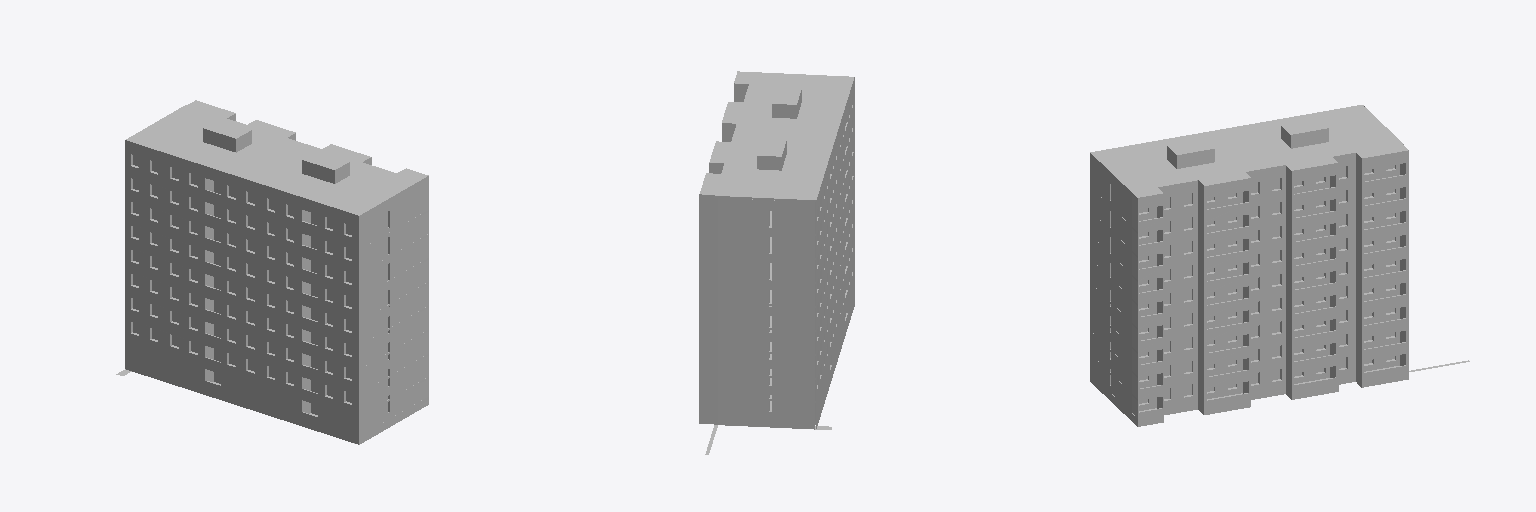
Rendered from Orangebuilding.obj.
3 renders of one model, left to right at view 1: azimuth 30°, elevation 25°; view 2: azimuth 150°, elevation 25°; view 3: azimuth 270°, elevation 25°, orthographic.
Visible parts, largest first — view 1: Mesh13 Component_4_1 Model, Mesh9 Group5 Component_4_1 Model, Mesh3 Group2 Component_4_1 Model, Mesh5 Group3 Component_4_1 Model; view 2: Mesh13 Component_4_1 Model, Mesh7 Group4 Component_4_1 Model, Mesh9 Group5 Component_4_1 Model, Mesh3 Group2 Component_4_1 Model; view 3: Mesh13 Component_4_1 Model, Mesh11 Group6 Component_4_1 Model, Mesh7 Group4 Component_4_1 Model, Mesh1 Group1 Component_4_1 Model, Mesh5 Group3 Component_4_1 Model.
Part boxes in pixels (bbox=[...]): Mesh13 Component_4_1 Model: bbox=[116, 100, 428, 444]; Mesh9 Group5 Component_4_1 Model: bbox=[204, 168, 221, 399]; Mesh3 Group2 Component_4_1 Model: bbox=[301, 199, 318, 431]; Mesh5 Group3 Component_4_1 Model: bbox=[420, 178, 428, 409]; Mesh13 Component_4_1 Model: bbox=[699, 71, 854, 454]; Mesh7 Group4 Component_4_1 Model: bbox=[699, 196, 713, 423]; Mesh9 Group5 Component_4_1 Model: bbox=[829, 154, 831, 386]; Mesh3 Group2 Component_4_1 Model: bbox=[845, 102, 847, 335]; Mesh13 Component_4_1 Model: bbox=[1090, 105, 1469, 422]; Mesh11 Group6 Component_4_1 Model: bbox=[1198, 180, 1250, 414]; Mesh7 Group4 Component_4_1 Model: bbox=[1356, 152, 1408, 387]; Mesh1 Group1 Component_4_1 Model: bbox=[1286, 165, 1338, 399]; Mesh5 Group3 Component_4_1 Model: bbox=[1132, 195, 1163, 426].
Bounding box in the file's own units: 32284 × 36852 × 52227.